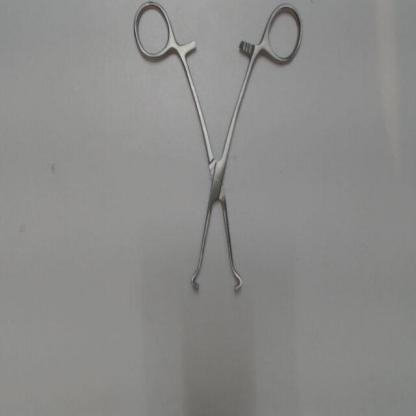Babcock Tissue Forceps: (127, 1, 307, 302)
